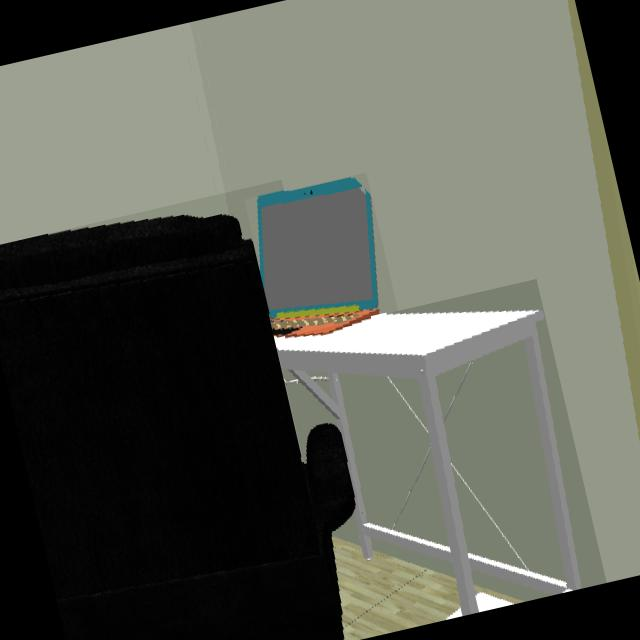chair: (0, 219, 350, 640)
laptop: (255, 178, 381, 337)
table: (275, 310, 582, 616)
